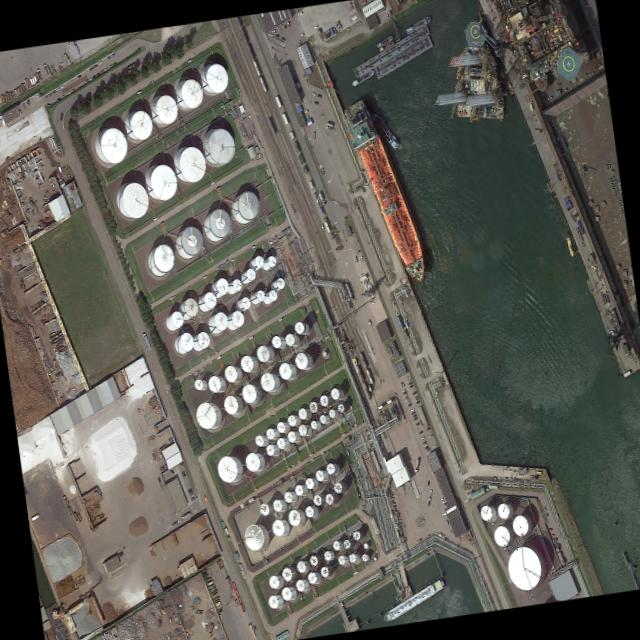large-vehicle: (142, 332, 152, 351), (317, 190, 326, 206), (125, 63, 136, 71), (62, 495, 69, 507), (60, 112, 63, 121), (281, 36, 285, 41), (275, 34, 279, 37)
ship: (336, 93, 437, 288), (353, 24, 431, 79), (380, 575, 448, 625), (374, 34, 434, 79), (369, 109, 402, 152), (403, 14, 433, 36), (351, 68, 376, 88), (375, 34, 394, 49), (377, 39, 395, 53), (565, 236, 574, 257)
small-vehicle: (414, 458, 420, 472), (367, 318, 372, 327), (320, 223, 325, 231), (26, 98, 31, 105), (354, 255, 358, 263), (411, 410, 416, 416), (418, 429, 423, 435), (428, 433, 434, 438), (432, 443, 438, 448), (106, 55, 111, 61), (97, 60, 102, 66), (358, 255, 364, 260), (441, 511, 447, 516), (108, 63, 113, 69), (188, 490, 194, 495), (60, 93, 66, 98), (157, 476, 161, 483), (203, 494, 207, 501), (413, 416, 418, 421), (426, 426, 431, 431), (421, 435, 426, 440), (427, 449, 432, 454), (89, 66, 94, 71), (412, 413, 417, 418), (410, 407, 415, 412), (330, 235, 335, 240), (356, 248, 361, 253), (416, 399, 421, 404), (415, 397, 420, 402), (412, 390, 417, 395), (409, 384, 414, 389), (408, 381, 413, 386), (407, 378, 412, 383), (400, 383, 405, 388), (402, 390, 407, 395), (405, 397, 410, 402), (112, 61, 117, 66), (104, 66, 109, 71), (43, 94, 48, 99), (51, 89, 56, 94), (187, 487, 192, 492), (84, 78, 89, 83), (77, 73, 82, 78), (169, 468, 174, 473), (181, 470, 186, 475), (189, 493, 194, 498), (56, 96, 61, 101), (335, 246, 340, 251), (314, 24, 319, 29), (357, 21, 362, 26), (298, 11, 303, 16), (317, 94, 322, 99), (253, 624, 257, 630), (272, 28, 276, 34), (415, 421, 420, 425), (422, 440, 427, 444), (423, 443, 428, 447), (426, 447, 430, 452), (93, 63, 97, 68), (408, 402, 412, 407), (443, 501, 447, 506), (414, 395, 419, 399), (399, 381, 404, 385), (404, 392, 408, 397), (402, 388, 407, 392), (405, 395, 409, 400), (406, 400, 411, 404), (100, 69, 104, 74), (56, 87, 60, 92), (96, 71, 100, 76), (92, 74, 96, 79), (89, 76, 93, 81), (60, 84, 64, 89), (191, 495, 195, 500), (71, 87, 75, 92), (67, 90, 71, 95), (314, 101, 319, 105), (427, 480, 430, 486), (427, 501, 430, 507), (386, 13, 389, 19), (315, 193, 318, 199), (316, 197, 319, 203), (317, 201, 320, 207), (441, 496, 445, 500), (425, 445, 429, 449), (444, 504, 448, 508), (442, 499, 446, 503), (35, 94, 39, 98), (48, 92, 52, 96), (182, 473, 186, 477), (312, 92, 316, 96), (430, 490, 433, 495), (429, 495, 432, 500), (550, 533, 555, 536), (546, 512, 549, 517), (544, 506, 547, 511), (549, 528, 553, 530)
storage-tank: (504, 543, 550, 592), (141, 158, 181, 204), (171, 140, 209, 185), (199, 126, 237, 167), (114, 181, 151, 221), (93, 126, 129, 166), (174, 72, 207, 113), (229, 188, 263, 227), (124, 106, 156, 145), (149, 91, 181, 128), (201, 206, 233, 243), (173, 224, 205, 260), (145, 242, 177, 278), (198, 62, 230, 95), (215, 453, 246, 485), (242, 521, 271, 552), (194, 401, 224, 430), (242, 448, 267, 474), (206, 310, 230, 336), (511, 513, 534, 537), (493, 523, 516, 547), (173, 331, 195, 355), (222, 394, 245, 416), (177, 297, 199, 320), (259, 371, 281, 393), (196, 290, 218, 312), (165, 309, 186, 332), (224, 361, 244, 385), (269, 517, 291, 538), (209, 276, 230, 298), (240, 382, 260, 404), (227, 307, 245, 331), (277, 361, 298, 381), (255, 344, 276, 364), (239, 354, 260, 374), (191, 331, 211, 352), (207, 374, 227, 394), (293, 352, 314, 371), (287, 508, 307, 527), (496, 502, 514, 520), (251, 287, 268, 306), (280, 564, 297, 582), (480, 504, 497, 522), (237, 294, 253, 313), (286, 427, 303, 444), (270, 274, 286, 292), (267, 593, 285, 609), (247, 255, 265, 271), (239, 268, 257, 284), (293, 320, 310, 336), (226, 278, 243, 294), (261, 254, 277, 271), (280, 586, 298, 601), (268, 574, 285, 589), (265, 289, 279, 307), (283, 488, 298, 504), (319, 393, 335, 408), (259, 501, 275, 516), (270, 335, 286, 350), (284, 333, 301, 347), (265, 443, 281, 457), (297, 407, 313, 421), (272, 498, 288, 512), (306, 571, 322, 585), (304, 504, 320, 518), (294, 483, 309, 497), (315, 468, 330, 482), (276, 436, 291, 450), (276, 420, 291, 434), (287, 413, 302, 427), (305, 476, 320, 490), (296, 559, 311, 573), (265, 427, 281, 440), (254, 434, 270, 447), (194, 378, 208, 392), (326, 462, 341, 475), (297, 423, 312, 436), (295, 579, 310, 592), (325, 492, 340, 505), (312, 493, 326, 506), (308, 400, 322, 413), (320, 565, 333, 578), (352, 529, 364, 541), (309, 555, 322, 566), (310, 419, 322, 430), (319, 413, 331, 424), (328, 407, 340, 418), (323, 550, 335, 561), (332, 540, 344, 551), (337, 555, 350, 565), (337, 402, 349, 412), (343, 539, 355, 549), (362, 553, 370, 561), (363, 543, 370, 549), (322, 350, 328, 356)
